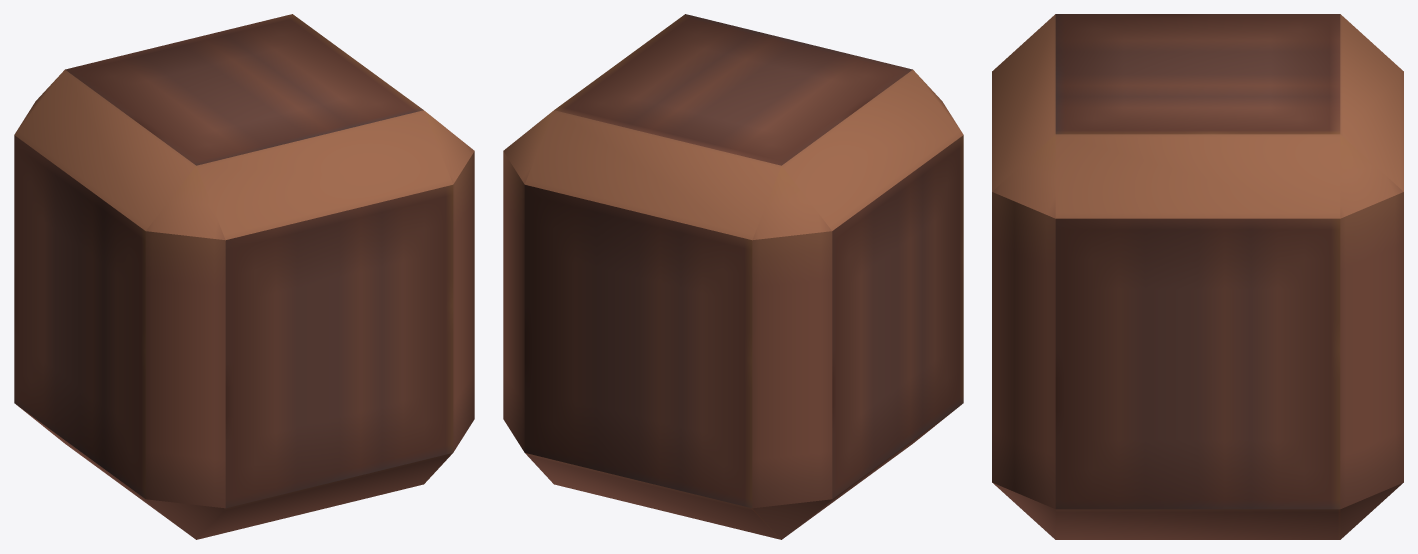
Rendered from crate_v1.fbx.
3 renders of one model, left to right at view 1: azimuth 30°, elevation 25°; view 2: azimuth 150°, elevation 25°; view 3: azimuth 270°, elevation 25°, orthographic. The views are drawn at different scales.
Visible parts, largest first — view 1: crate_v1; view 2: crate_v1; view 3: crate_v1.
Part boxes in pixels (box(x1,y1,x2,y2)): crate_v1: box(14, 14, 474, 539); crate_v1: box(503, 14, 963, 539); crate_v1: box(992, 14, 1403, 539).
Size of the model in its own units: 106 by 115 by 106.
